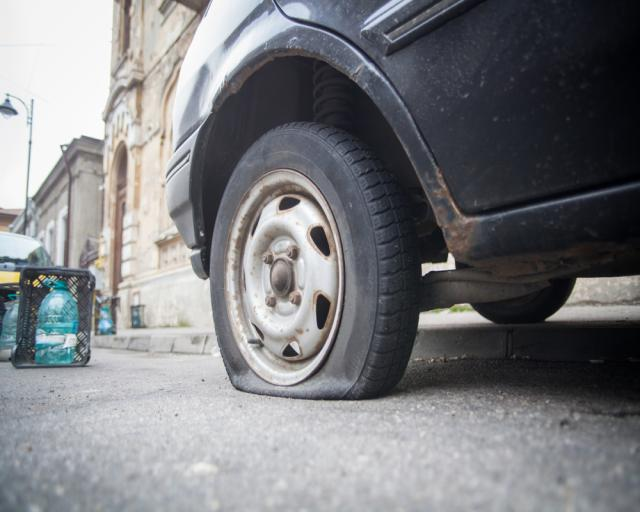tire flat: (210, 120, 422, 401)
